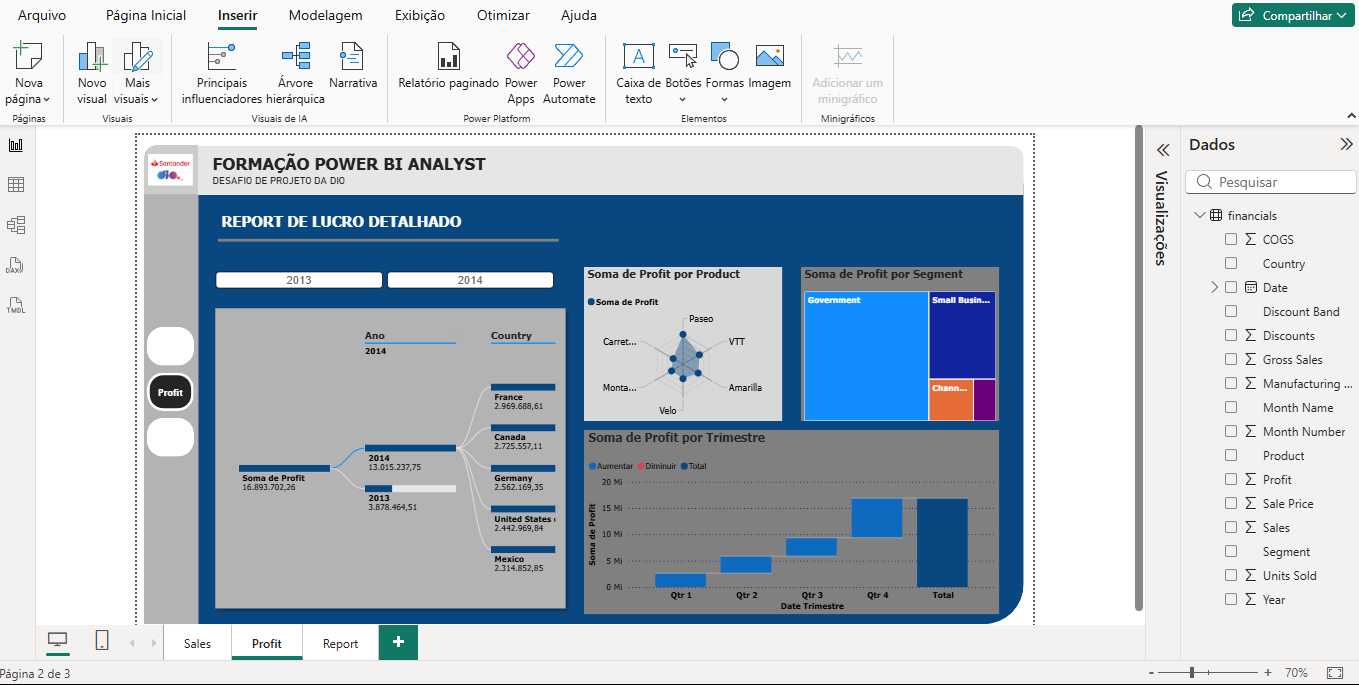

The page's visual inventory and layout, read from the dashboard file:
{"tool":"powerbi","page":{"name":"Profit","canvas":[1280,720],"ordinal":1},"visuals":[{"type":"shape","box":[10,15,1256.7,683.3],"z":0},{"type":"shape","box":[10,15,78.3,683.3],"z":1000},{"type":"shape","box":[10,14.3,77.8,70.9],"z":2000},{"type":"image","title":"Logo","box":[16.1,27.2,63.9,45],"z":3000},{"type":"shape","box":[87,15.2,1179.6,70],"z":4000},{"type":"textbox","box":[103.3,21.7,425,56.7],"z":5000},{"type":"shape","box":[115,113.3,486.7,75],"z":6000},{"type":"textbox","box":[115,105,373.3,46.7],"z":7000},{"type":"shape","box":[103.3,238.3,518.3,446.7],"z":8000},{"type":"shape","box":[638.3,188.3,283.3,220],"z":9000},{"type":"shape","box":[638.3,421.7,593.3,263.3],"z":10000},{"type":"shape","box":[948.3,188.3,283.3,220],"z":12000},{"type":"RadarChart1446119667547","fields":{"Y":["Sum(financials.Profit)"],"Category":["financials.Product"]},"box":[638.6,188.6,282.9,220],"z":13000},{"type":"treemap","fields":{"Group":["financials.Segment"],"Values":["Sum(financials.Profit)"]},"box":[948.3,188.3,283.3,225],"z":14000},{"type":"decompositionTreeVisual","fields":{"Analyze":["Sum(financials.Profit)"],"ExplainBy":["financials.Year","financials.Country"]},"box":[115,261.7,486.7,406.7],"z":15000},{"type":"waterfallChart","fields":{"Category":["financials.Date.Variation.Hierarquia de datas.Trimestre"],"Y":["Sum(financials.Profit)"]},"box":[640,421.7,591.7,263.3],"z":16000},{"type":"ChicletSlicer1448559807354","fields":{"Category":["financials.Date.Variation.Hierarquia de datas.Ano"]},"box":[103.9,187.3,499,51.2],"z":17000},{"type":"pageNavigator","box":[14.3,274.3,67.1,185.7],"z":17002}]}

Visuals, with their boxes on the page's 1280x720 design canvas (x1, y1, x2, y2). These are canvas units, not pixel positions in the 1359x685 screenshot, which may show the page scaled, cropped or inside an application window:
shape: box(10, 15, 1267, 698)
shape: box(10, 15, 88, 698)
shape: box(10, 14, 88, 85)
"Logo" image: box(16, 27, 80, 72)
shape: box(87, 15, 1267, 85)
textbox: box(103, 22, 528, 78)
shape: box(115, 113, 602, 188)
textbox: box(115, 105, 488, 152)
shape: box(103, 238, 622, 685)
shape: box(638, 188, 922, 408)
shape: box(638, 422, 1232, 685)
shape: box(948, 188, 1232, 408)
RadarChart1446119667547 - Sum(financials.Profit) x financials.Product: box(639, 189, 922, 409)
treemap - financials.Segment x Sum(financials.Profit): box(948, 188, 1232, 413)
decompositionTreeVisual - Sum(financials.Profit) x financials.Year: box(115, 262, 602, 668)
waterfallChart - financials.Date.Variation.Hierarquia de datas.Trimestre x Sum(financials.Profit): box(640, 422, 1232, 685)
ChicletSlicer1448559807354 - financials.Date.Variation.Hierarquia de datas.Ano: box(104, 187, 603, 238)
pageNavigator: box(14, 274, 81, 460)
